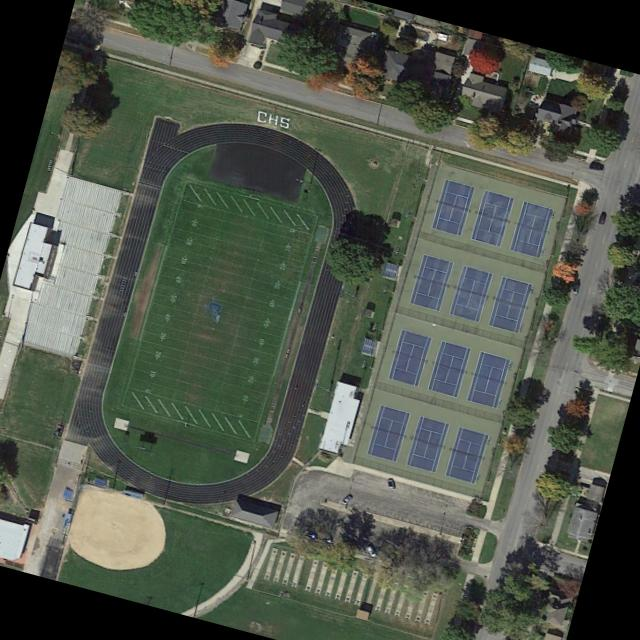small-vehicle: (569, 278, 582, 296), (339, 493, 355, 506), (597, 210, 608, 227), (365, 545, 378, 559), (386, 478, 396, 490)
